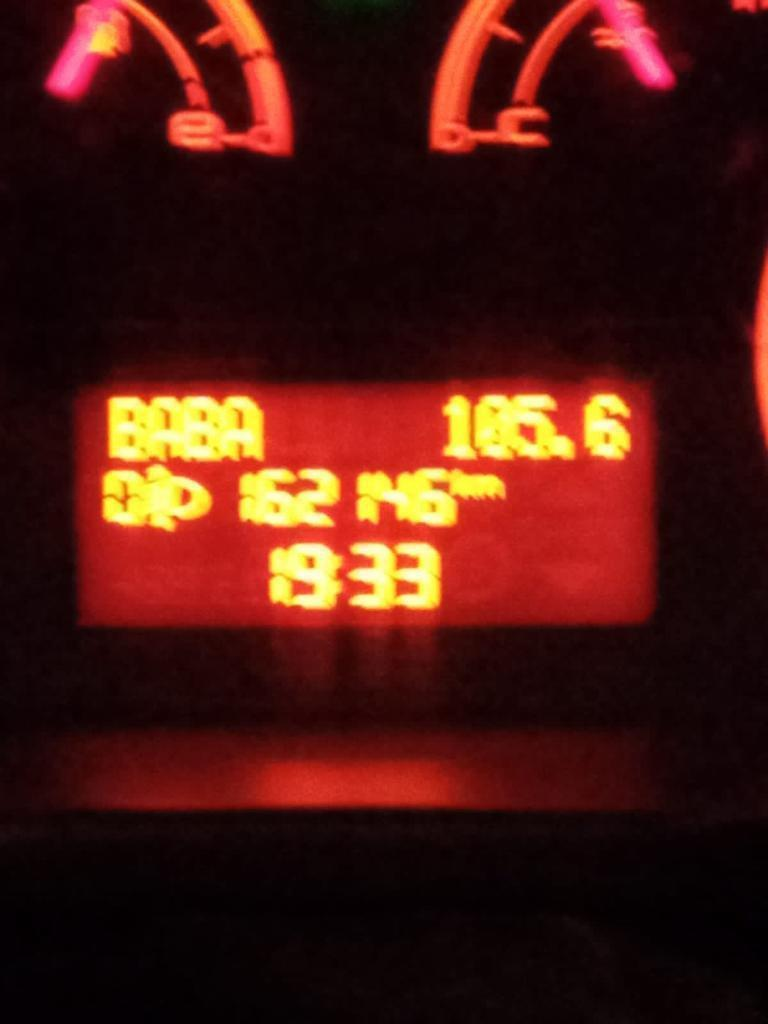,: (553, 433, 576, 460)
0: (100, 467, 144, 530), (473, 392, 512, 460)
1: (440, 392, 474, 461), (265, 546, 288, 607), (354, 470, 378, 524), (235, 471, 256, 526)
2: (296, 467, 341, 528)
3: (346, 540, 394, 610), (393, 541, 440, 609)
4: (377, 469, 414, 526)
5: (514, 393, 553, 462), (414, 467, 453, 528)
6: (582, 390, 633, 462), (255, 467, 295, 528)
9: (288, 542, 332, 610)
X: (220, 395, 265, 461), (105, 394, 146, 462), (182, 394, 220, 461), (145, 395, 182, 461), (474, 470, 508, 502), (454, 467, 473, 500), (333, 552, 344, 596)
odometer: (65, 369, 666, 635)
